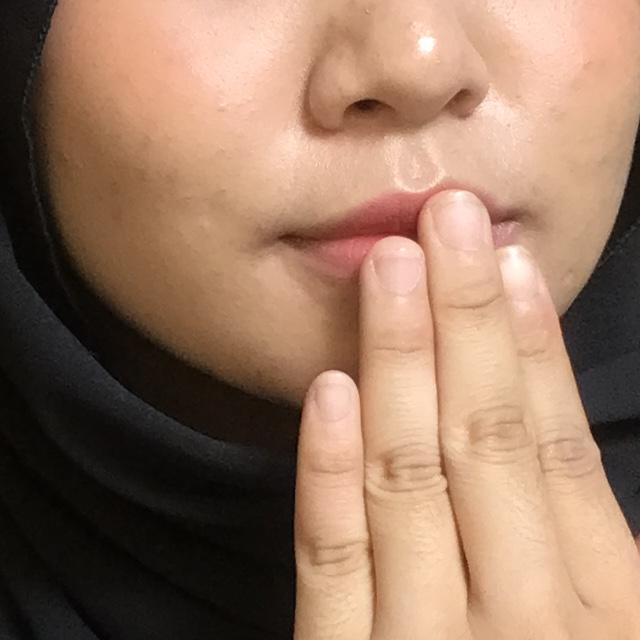ganteng: (160, 106, 640, 640)
